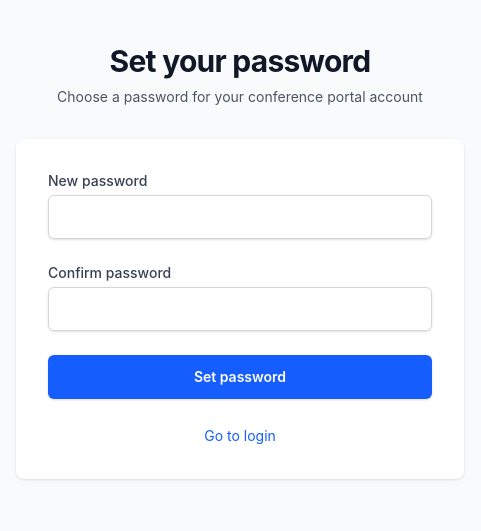
Test: SetPasswordPage › shows error when passwords do not match
Type "Str0ng!Pass" into the password field labelled "New password".
click(240, 217); type("Str0ng!Pass")  # box [48, 195, 432, 239]
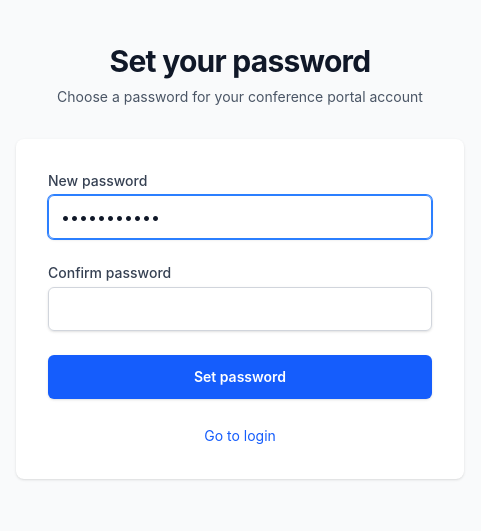
Type "Different!Pass" into the password field labelled "Confirm password".
click(240, 309); type("Different!Pass")  # box [48, 287, 432, 331]
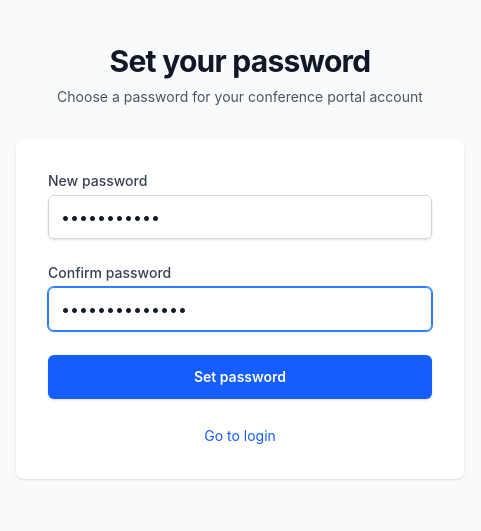
Click the button "Set password".
click(240, 377)  # box [48, 355, 432, 399]
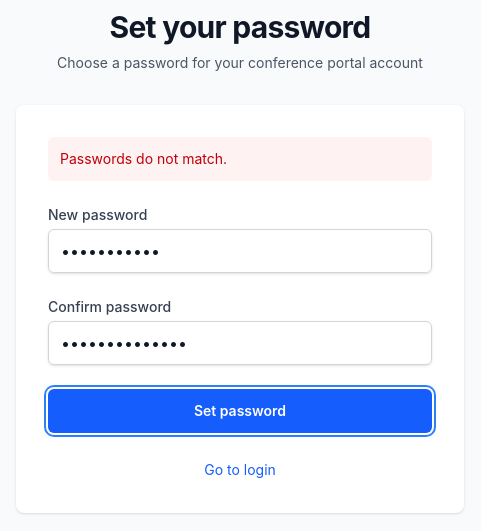
Now the message shows "do not match", box [60, 150, 227, 167]
